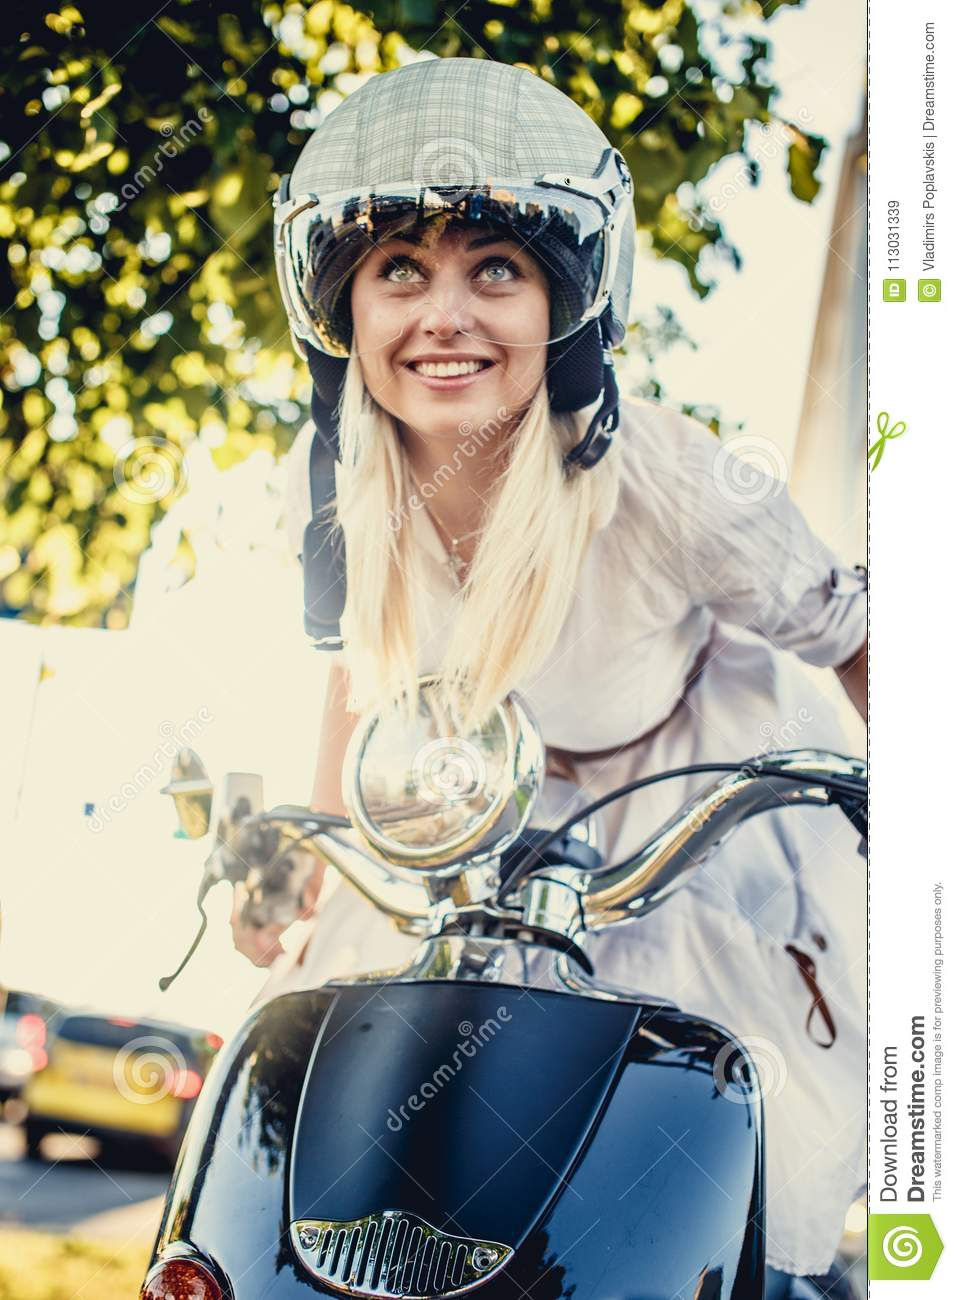helmet: (272, 59, 630, 359)
